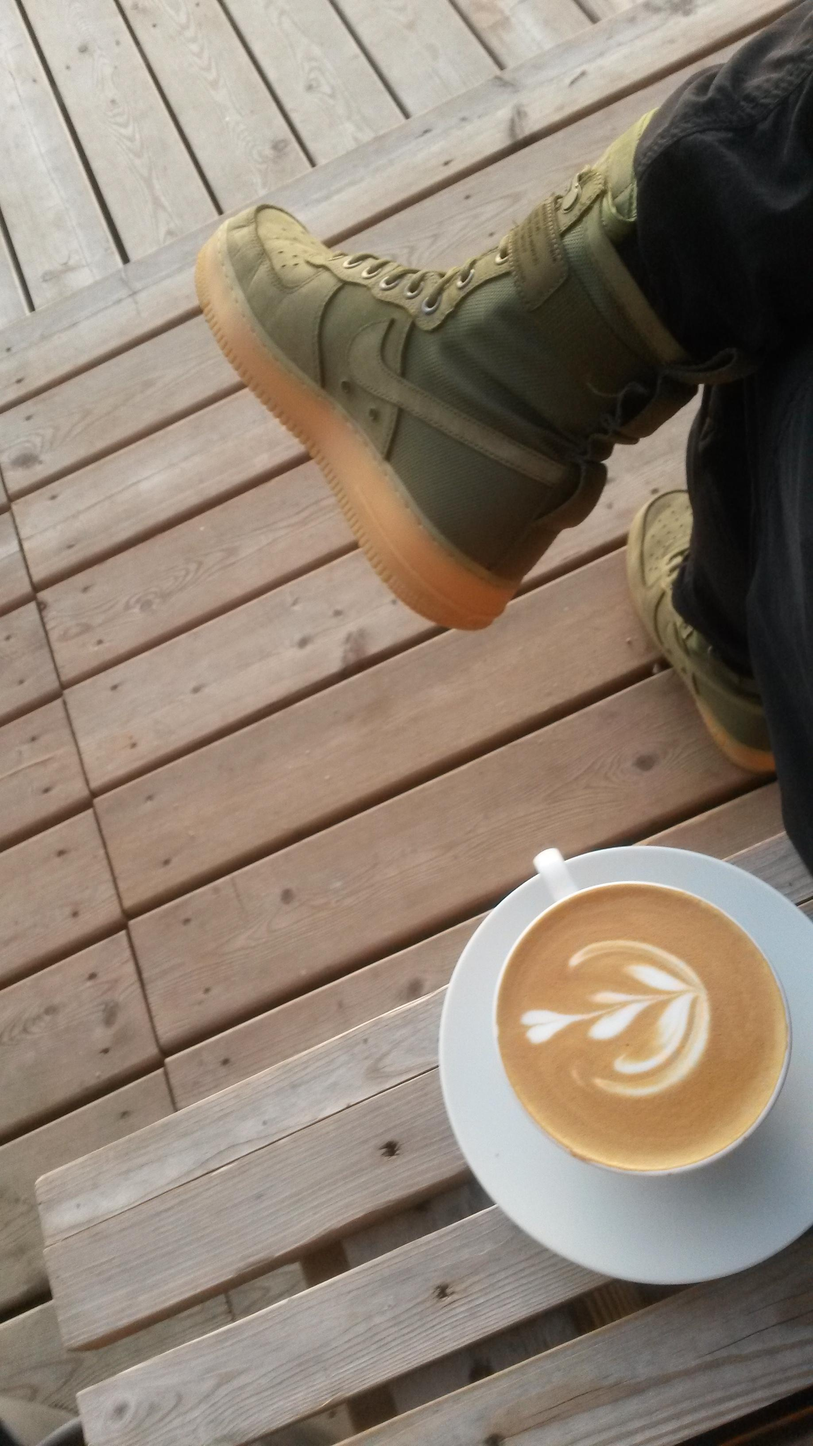sneaker: (160, 146, 719, 673)
